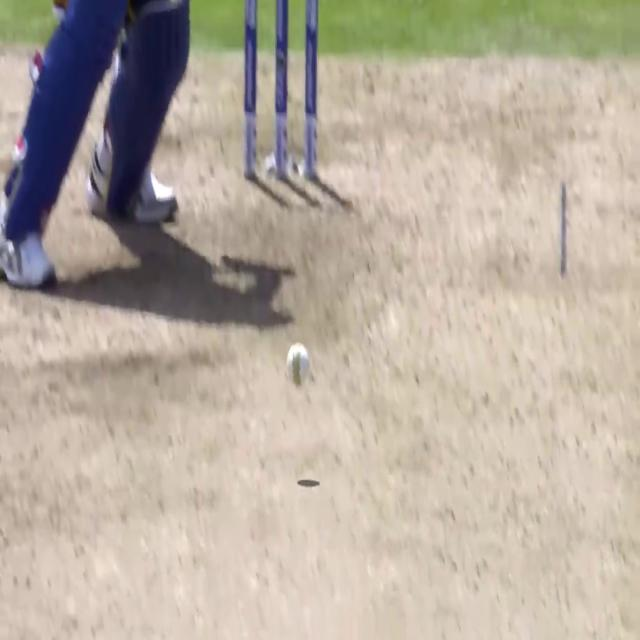ball: (285, 343, 311, 391)
